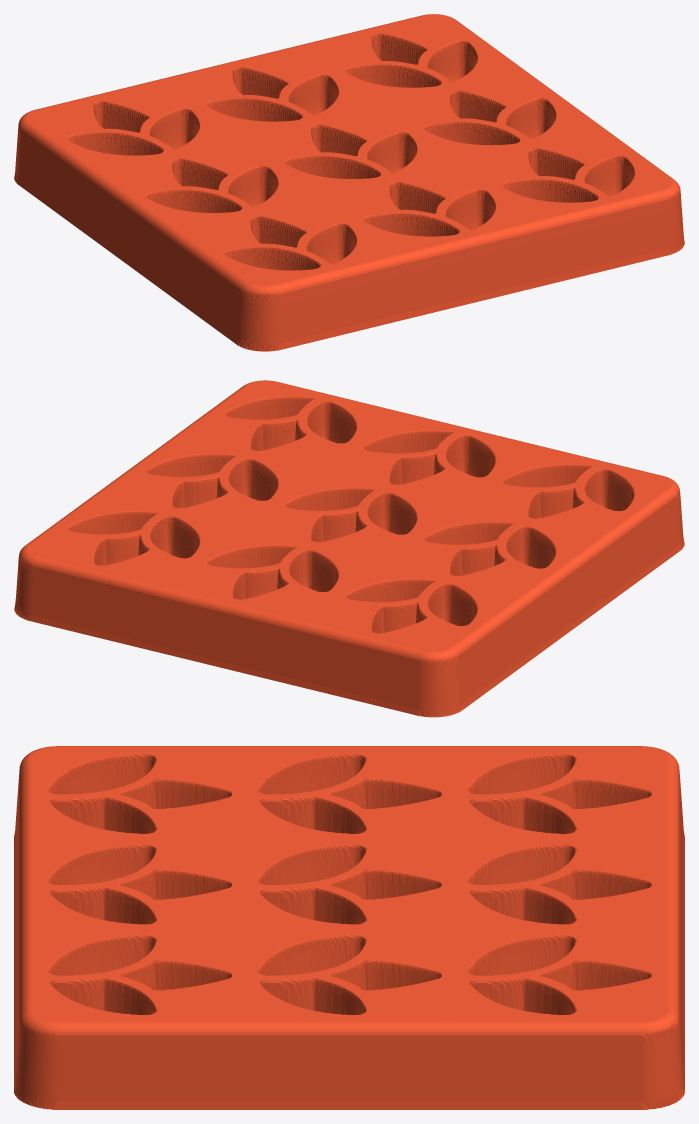
The model's file is mold.glb.
3 views of the same model, one above another, from view 1: azimuth 30°, elevation 25°; view 2: azimuth 150°, elevation 25°; view 3: azimuth 270°, elevation 25° (orthographic). The views are drawn at different scales.
Visible parts, largest first — view 1: geometry_0; view 2: geometry_0; view 3: geometry_0.
Boxes of the visible parts, x1,y1,x2,y2 form: geometry_0: (14, 14, 684, 351); geometry_0: (14, 380, 684, 717); geometry_0: (14, 746, 684, 1109).
Bounding box in the file's own units: 0.1402 × 0.0182 × 0.1373.
